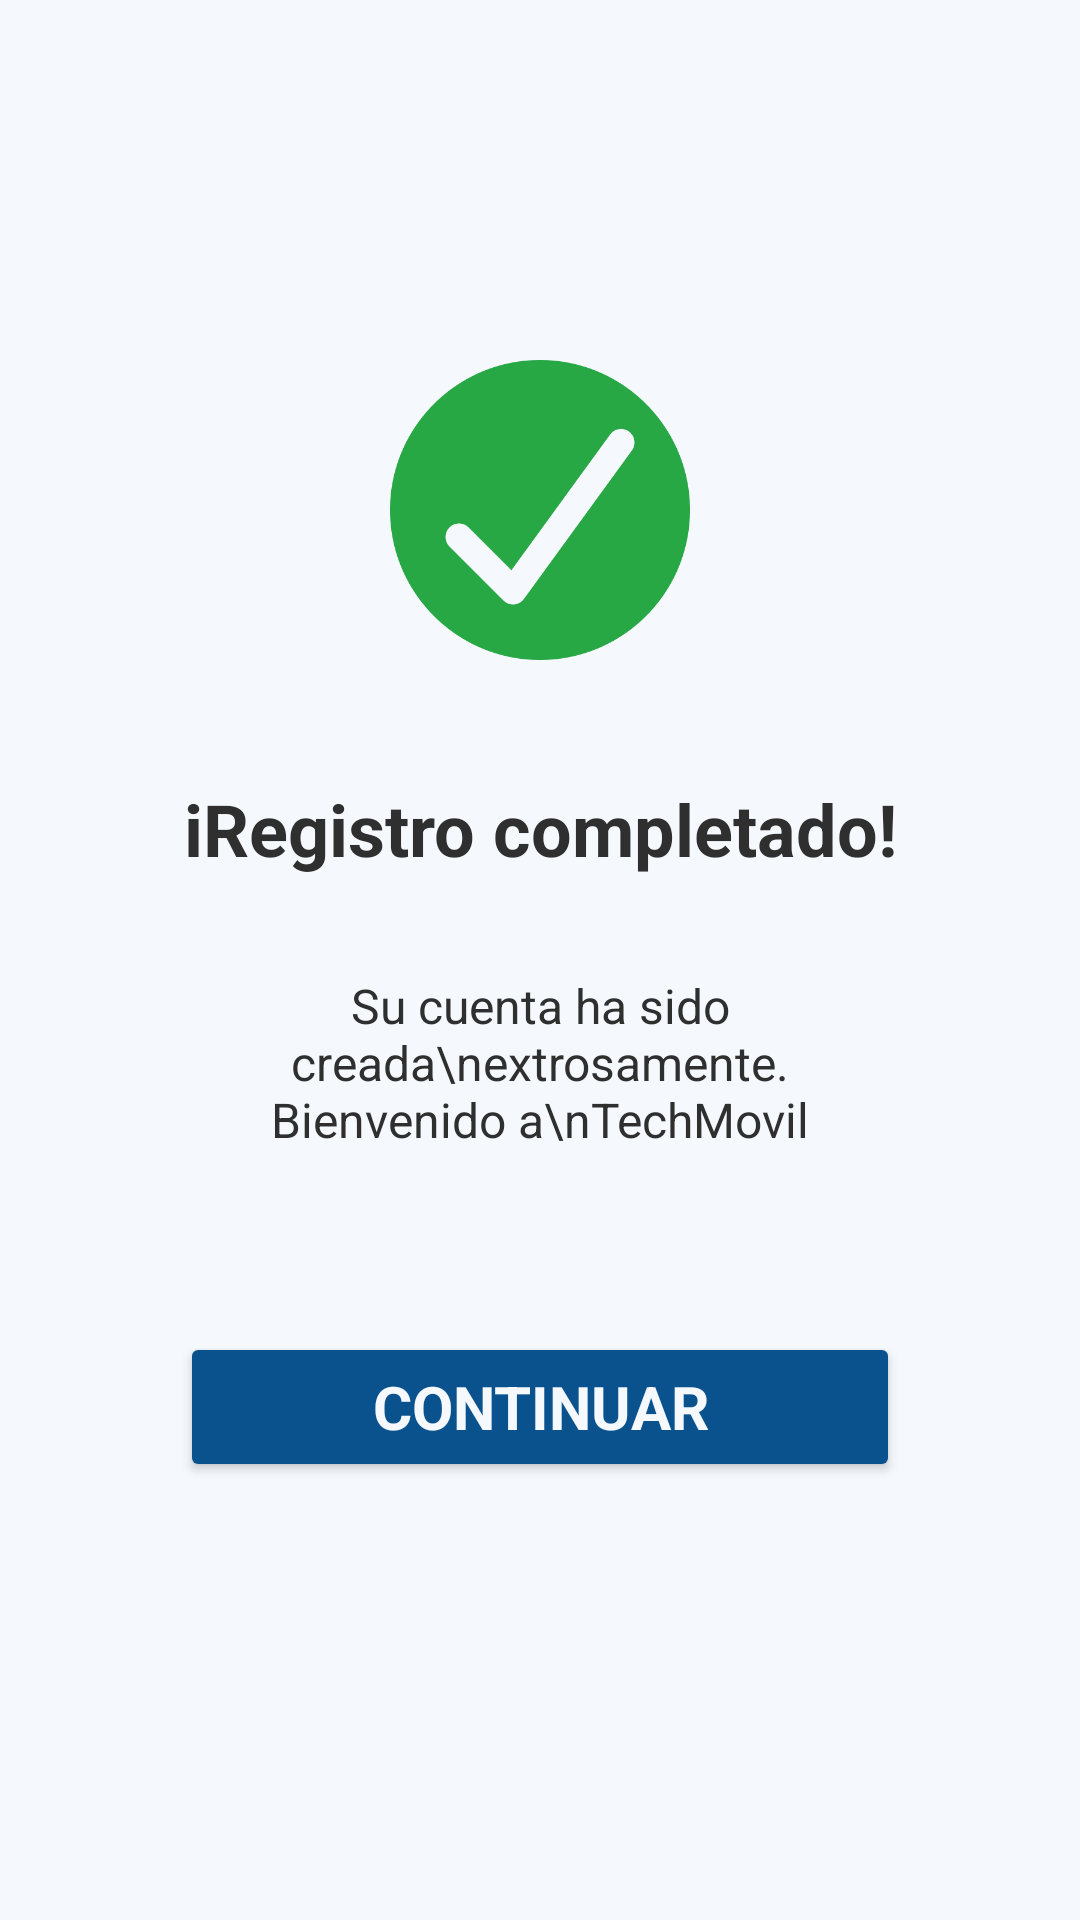

Screen size 1080×1920. Icon name, then its box in pixels as {"x1": x1, "y1": y1, "x2": x2, "y2": y2}:
check exito: {"x1": 390, "y1": 360, "x2": 690, "y2": 660}
